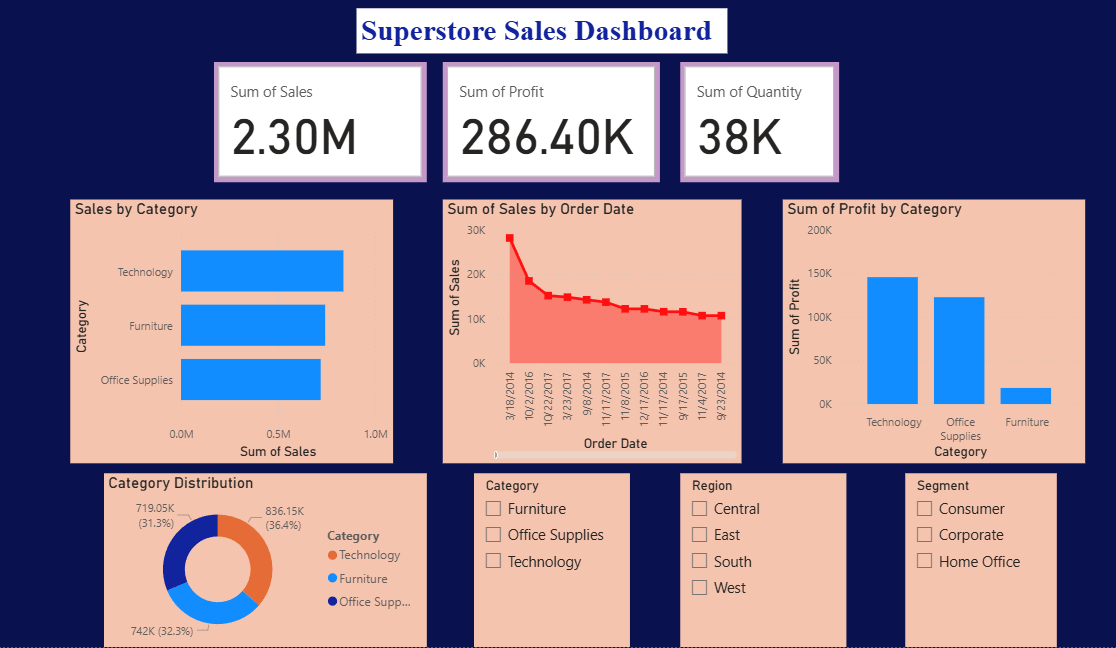

The page's visual inventory and layout, read from the dashboard file:
{"tool":"powerbi","page":{"name":"Page 1","canvas":[1280,720],"ordinal":0},"visuals":[{"type":"cardVisual","fields":{"Data":["Sum(Sample - Superstore.Sales)"]},"box":[269,76.8,233.3,131.7],"z":0},{"type":"cardVisual","fields":{"Data":["Sum(Sample - Superstore.Quantity)"]},"box":[780.8,76.8,174.3,131.7],"z":1},{"type":"cardVisual","fields":{"Data":["Sum(Sample - Superstore.Profit)"]},"box":[520.1,76.8,238.8,131.7],"z":2},{"type":"clusteredBarChart","title":"Sales by Category","fields":{"Category":["Sample - Superstore.Category"],"Y":["Sum(Sample - Superstore.Sales)"]},"box":[111.1,227.8,354,289.5],"z":3},{"type":"lineChart","fields":{"Category":["Sample - Superstore.Order Date"],"Y":["Sum(Sample - Superstore.Sales)"]},"box":[520.1,227.8,328,289.5],"z":4},{"type":"donutChart","title":"Category Distribution","fields":{"Category":["Sample - Superstore.Category"],"Y":["Sum(Sample - Superstore.Sales)"]},"box":[148.2,528.3,354,192.1],"z":5},{"type":"clusteredColumnChart","fields":{"Category":["Sample - Superstore.Category"],"Y":["Sum(Sample - Superstore.Profit)"]},"box":[893.3,227.8,332.1,289.5],"z":6},{"type":"slicer","fields":{"Values":["Sample - Superstore.Category"]},"box":[554.4,528.3,171.5,192.1],"z":7},{"type":"slicer","fields":{"Values":["Sample - Superstore.Region"]},"box":[780.8,528.3,182.5,192.1],"z":8},{"type":"slicer","fields":{"Values":["Sample - Superstore.Segment"]},"box":[1027.8,528.3,166,192.1],"z":9},{"type":"textbox","box":[425.4,17.8,407.5,49.4],"z":10}]}

Visuals, with their boxes in screenshot pixels (x1, y1, x2, y2):
cardVisual - Sum(Sample - Superstore.Sales): locate(208, 56, 424, 178)
cardVisual - Sum(Sample - Superstore.Quantity): locate(681, 56, 842, 178)
cardVisual - Sum(Sample - Superstore.Profit): locate(440, 56, 661, 178)
"Sales by Category" clusteredBarChart: locate(62, 196, 389, 464)
lineChart - Sample - Superstore.Order Date x Sum(Sample - Superstore.Sales): locate(440, 196, 743, 464)
"Category Distribution" donutChart: locate(96, 474, 423, 647)
clusteredColumnChart - Sample - Superstore.Category x Sum(Sample - Superstore.Profit): locate(785, 196, 1092, 464)
slicer - Sample - Superstore.Category: locate(472, 474, 630, 647)
slicer - Sample - Superstore.Region: locate(681, 474, 850, 647)
slicer - Sample - Superstore.Segment: locate(909, 474, 1063, 647)
textbox: locate(352, 2, 729, 48)
